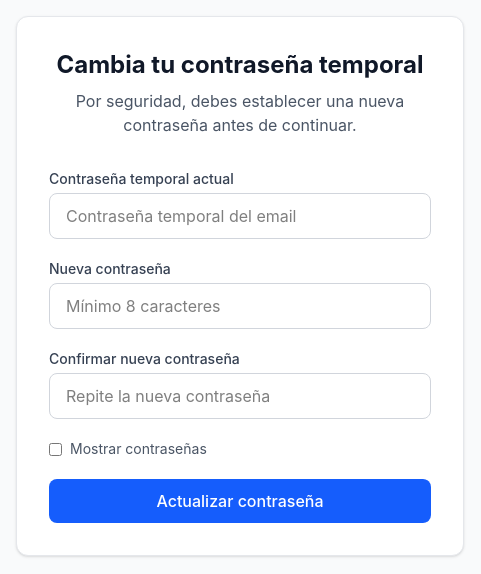
PasswordChangeRequiredPage › disables form when mutation is pending
In the password field labelled "Contraseña temporal actual": (240, 216) x1=49 y1=193 x2=431 y2=239, type "TempPass123"
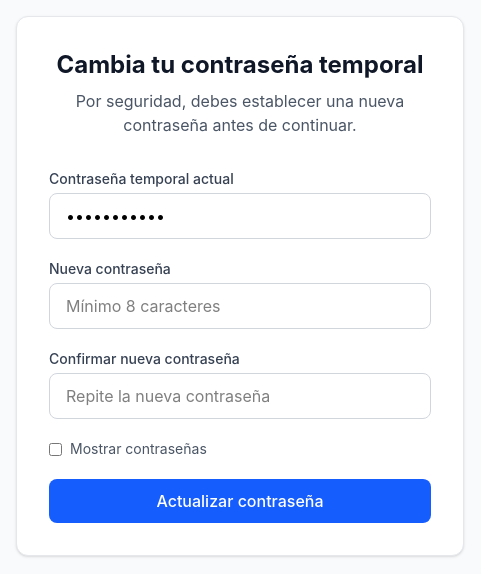
In the password field labelled "Nueva contraseña": (240, 306) x1=49 y1=283 x2=431 y2=329, type "NewPass456"
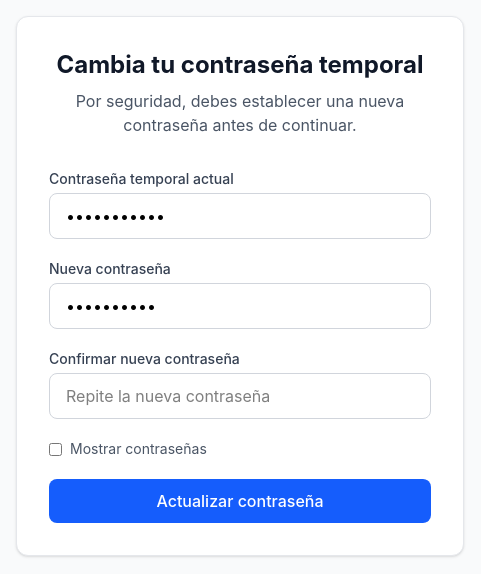
In the password field labelled "Confirmar nueva contraseña": (240, 396) x1=49 y1=373 x2=431 y2=419, type "NewPass456"
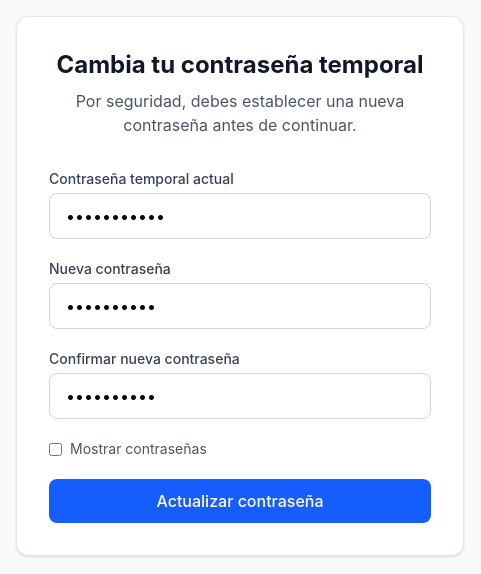
Click the button "Actualizar contraseña": (240, 501) x1=49 y1=479 x2=431 y2=523
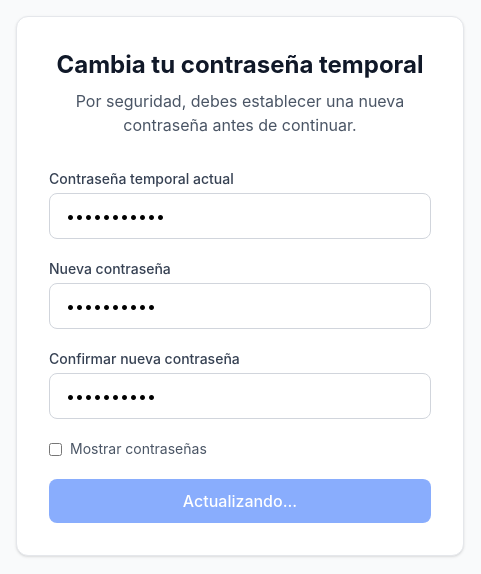
Expected: the password field labelled "Contraseña temporal actual" is disabled, x1=49 y1=193 x2=431 y2=239
Expected: the button "Actualizando..." is disabled, x1=49 y1=479 x2=431 y2=523
